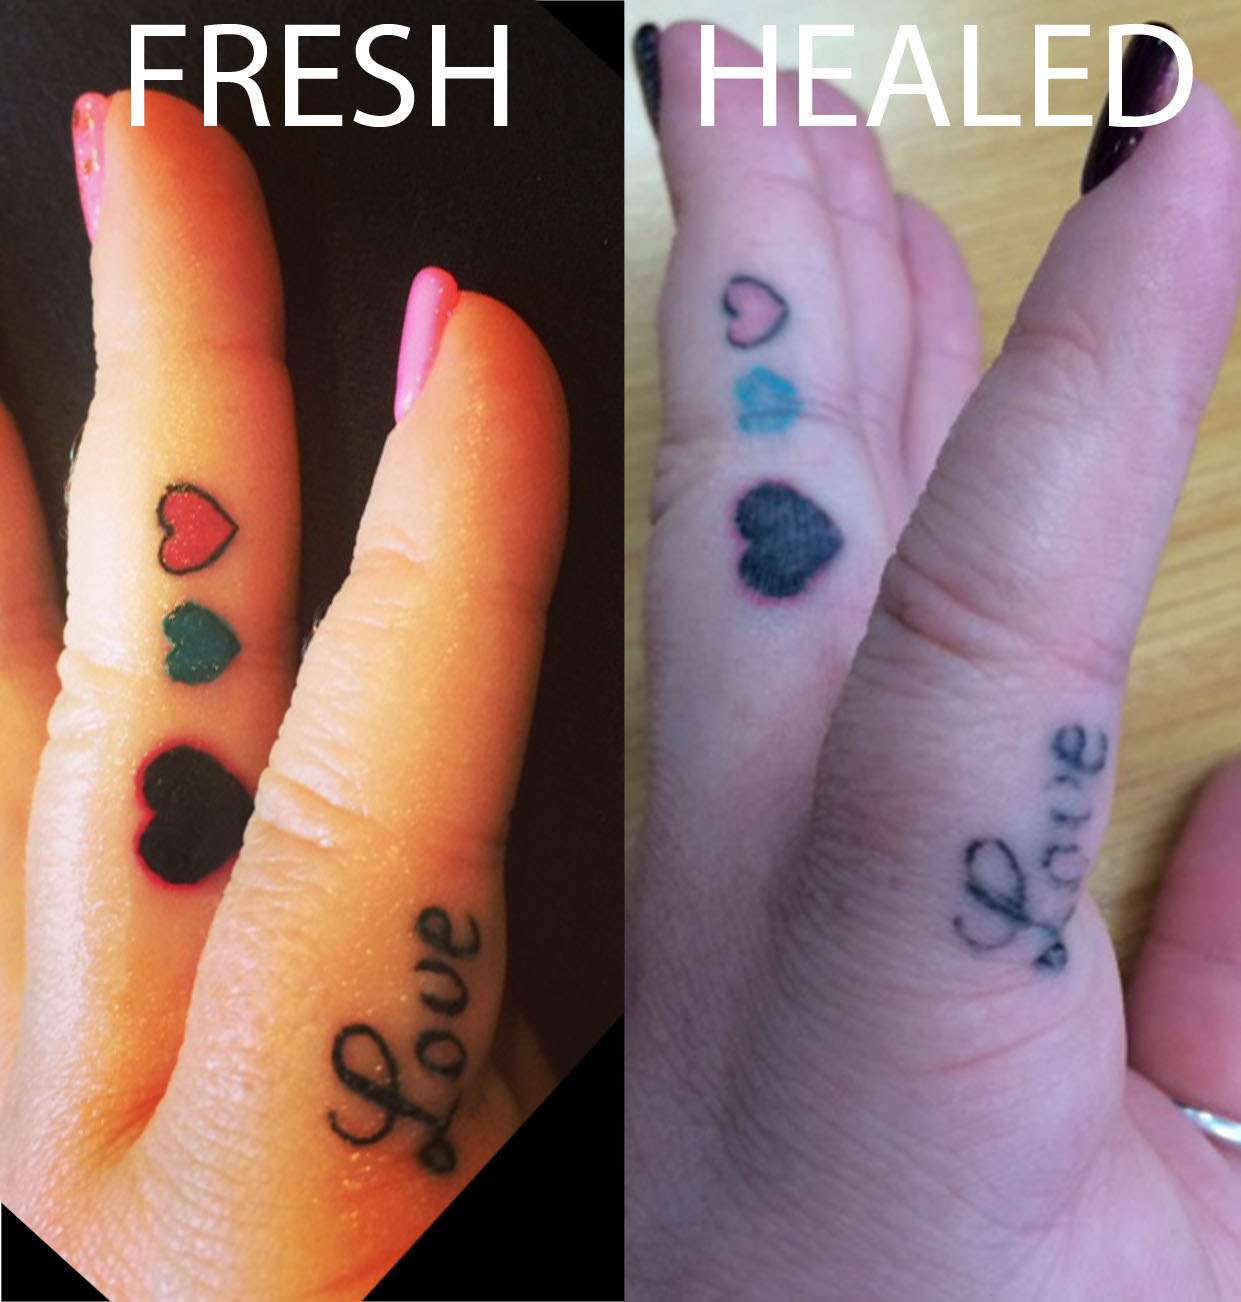finger: (752, 38, 1241, 1067), (148, 269, 579, 1136), (26, 79, 277, 1113), (641, 6, 855, 793)
